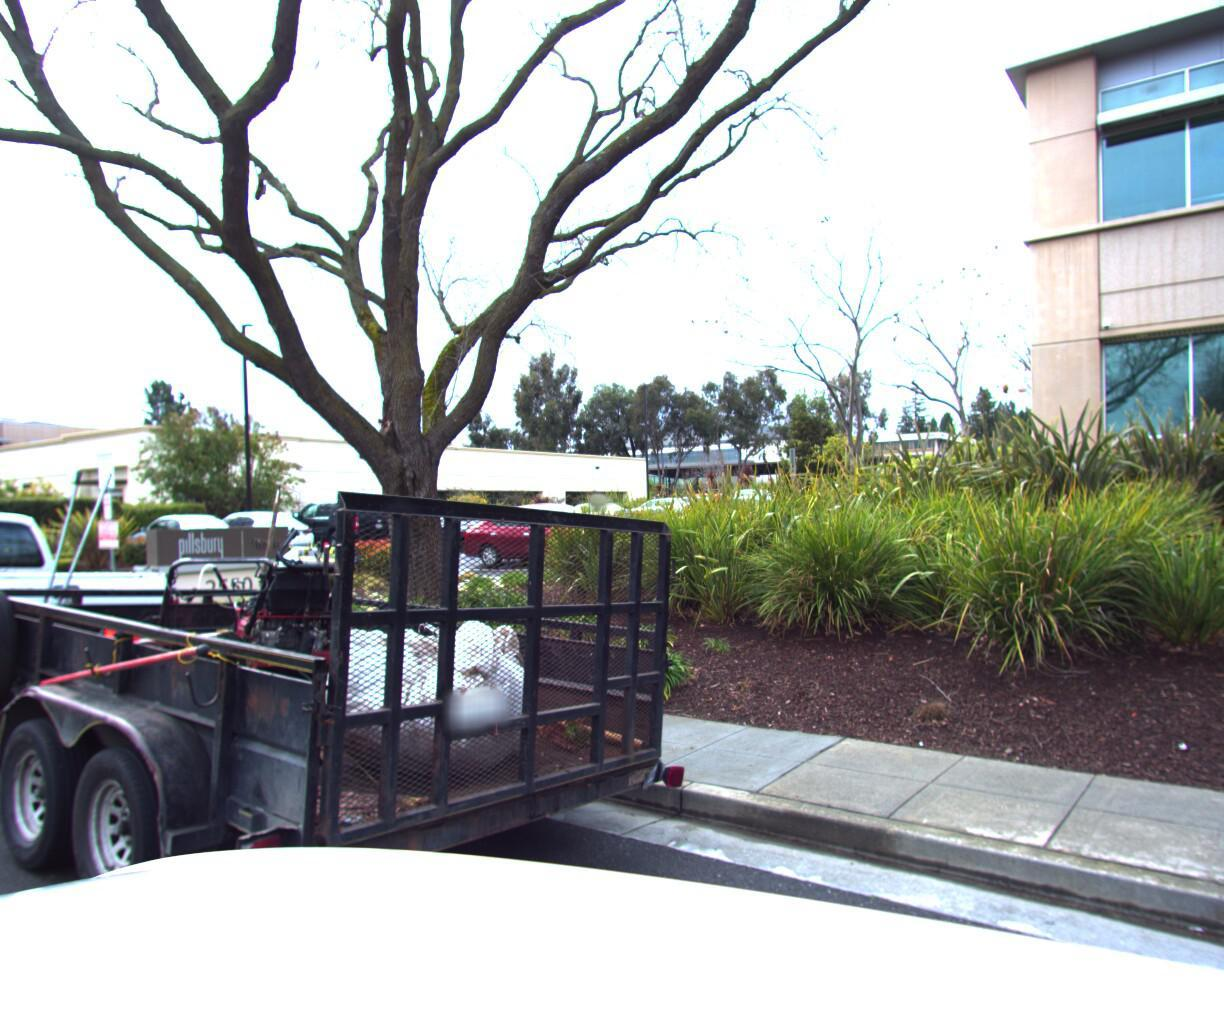car: (0, 387, 737, 1016), (130, 510, 253, 563)
